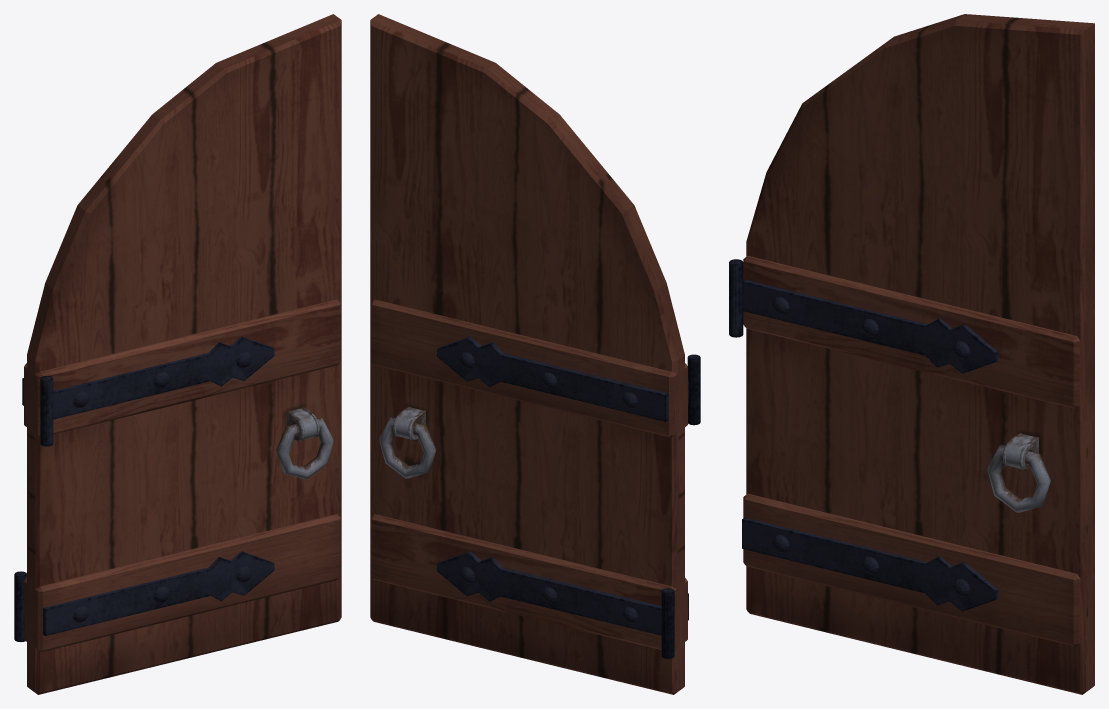
File: BigDoorRight.fbx
3 views of the same model, side by side, from view 1: azimuth 30°, elevation 25°; view 2: azimuth 150°, elevation 25°; view 3: azimuth 330°, elevation 25° (orthographic). The views are drawn at different scales.
Visible parts, largest first — view 1: DoubleDoorRight; view 2: DoubleDoorRight; view 3: DoubleDoorRight.
Part boxes in pixels (left/top/right/bottom): DoubleDoorRight: left=14, top=14, right=341, bottom=694; DoubleDoorRight: left=370, top=14, right=700, bottom=694; DoubleDoorRight: left=729, top=14, right=1094, bottom=694.
Bounding box in the file's own units: 65.07 × 120 × 15.82.
